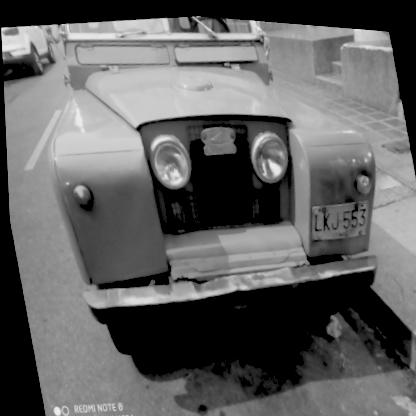placa: (302, 184, 374, 243)
